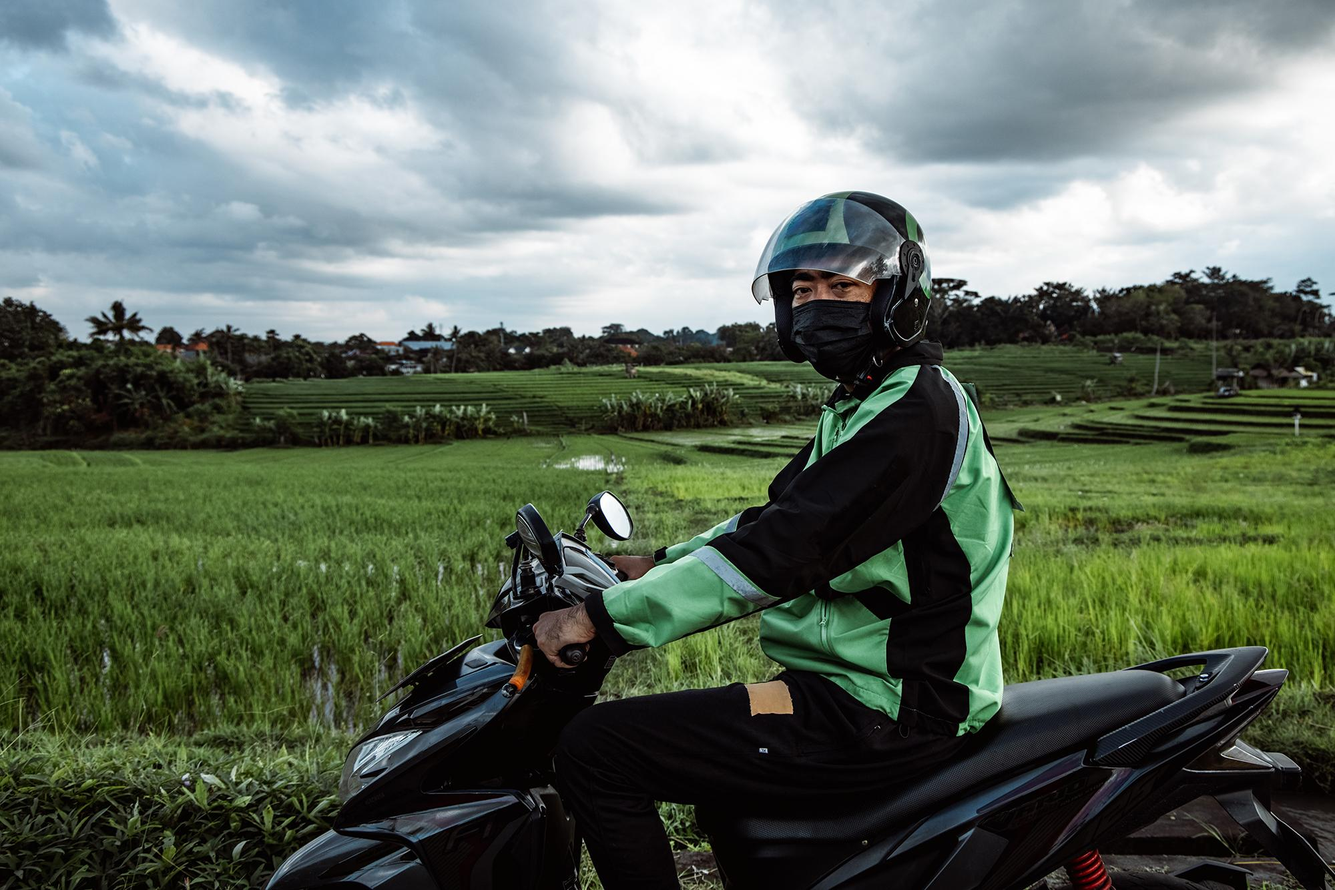helmet: (751, 189, 933, 388)
